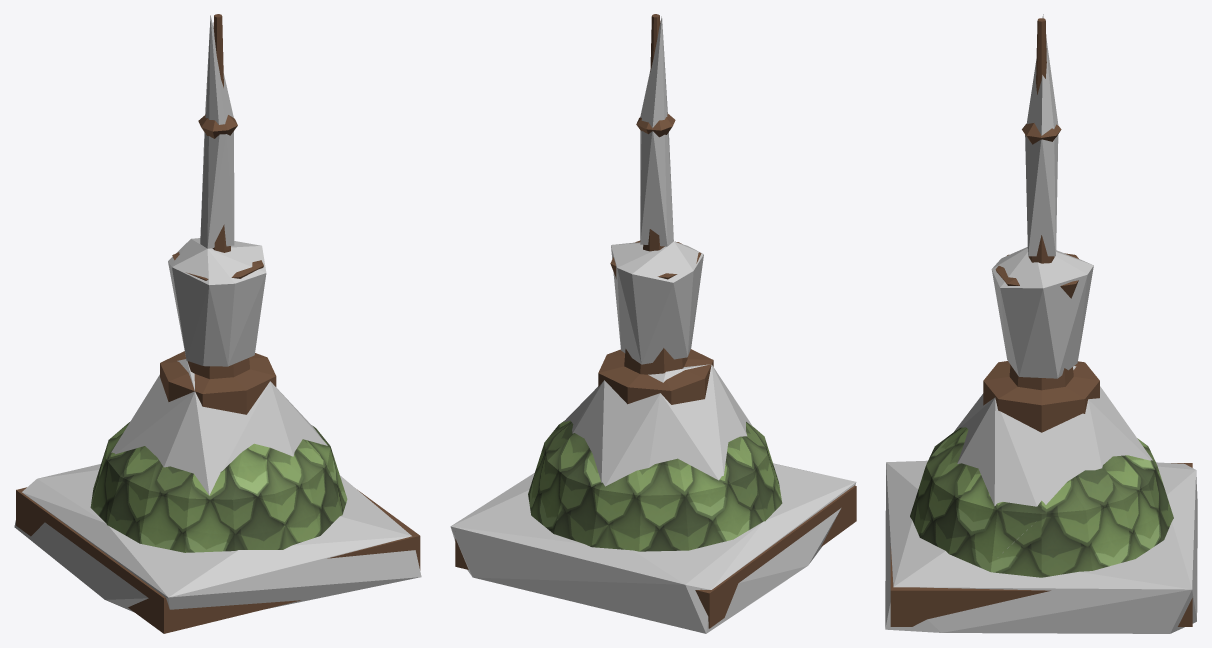
File: SM_Bld_Roof_Tower_01.fbx
The picture shows the model from 3 angles, left to right: view 1: azimuth 30°, elevation 25°; view 2: azimuth 150°, elevation 25°; view 3: azimuth 270°, elevation 25°; orthographic projection. The views are drawn at different scales.
Visible parts, largest first — view 1: SM_Bld_Roof_Tower_01_ConvexHulls, SM_Bld_Roof_Tower_01; view 2: SM_Bld_Roof_Tower_01_ConvexHulls, SM_Bld_Roof_Tower_01; view 3: SM_Bld_Roof_Tower_01_ConvexHulls, SM_Bld_Roof_Tower_01.
Boxes of the visible parts, <box> form: SM_Bld_Roof_Tower_01_ConvexHulls: <box>14,15,421,611</box>; SM_Bld_Roof_Tower_01: <box>16,14,420,633</box>; SM_Bld_Roof_Tower_01_ConvexHulls: <box>450,16,856,633</box>; SM_Bld_Roof_Tower_01: <box>455,14,856,628</box>; SM_Bld_Roof_Tower_01_ConvexHulls: <box>885,14,1197,633</box>; SM_Bld_Roof_Tower_01: <box>890,18,1192,626</box>.
Size of the model in its own units: 269 by 267 by 520.
Materials: 3 (2 with a texture image).
